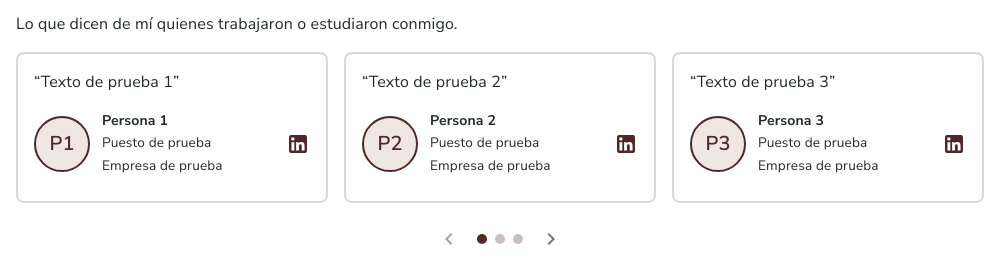
Scenario: with 9 recommendations it shows 3 at a time and paginates
Expected: the number of elements with test id "recommendation" is 3, [16, 52, 328, 203]; [344, 52, 656, 203]; [672, 52, 984, 203]
Expected: the text "“Texto de prueba 1”" is shown, [34, 71, 180, 93]
Click the button named "Recomendaciones siguientes" at (551, 239), box [531, 219, 571, 259]
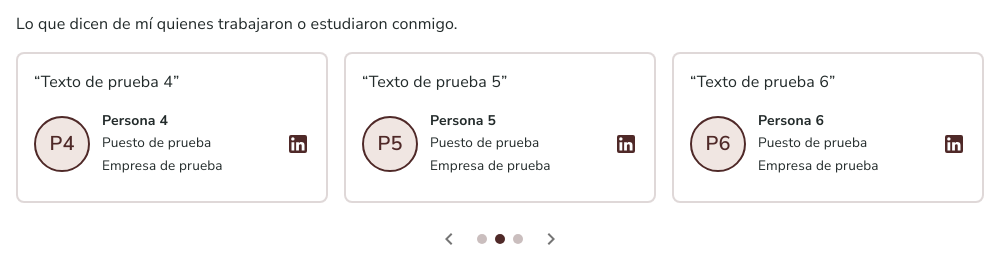
Result: the text "“Texto de prueba 4”" is shown at [34, 71, 180, 93]
Result: the text "Texto de prueba 1”" is gone
